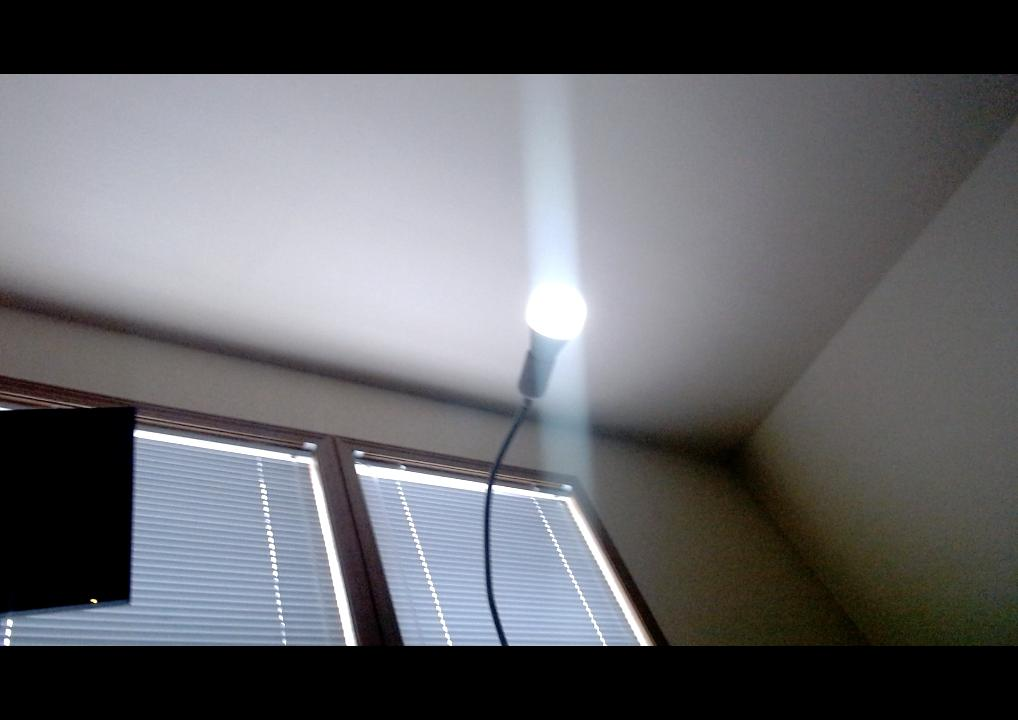TubeLight: (525, 279, 585, 359)
